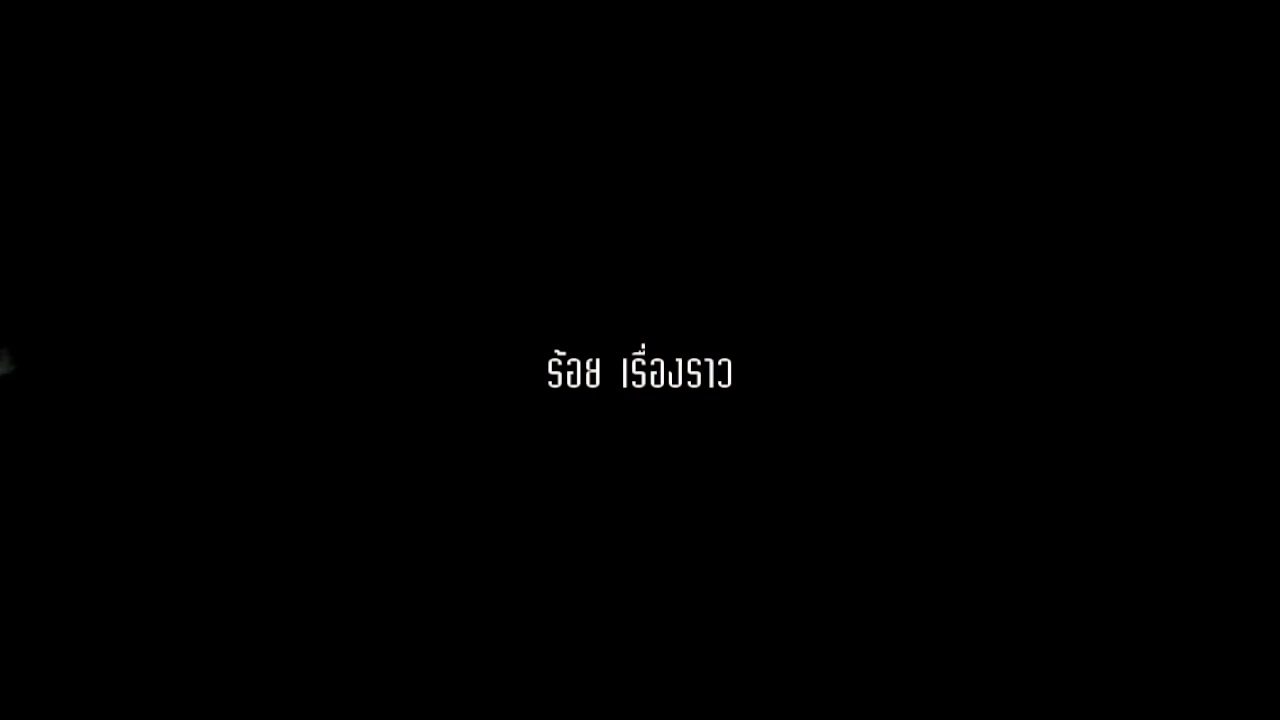text-label: (545, 342, 736, 396)
